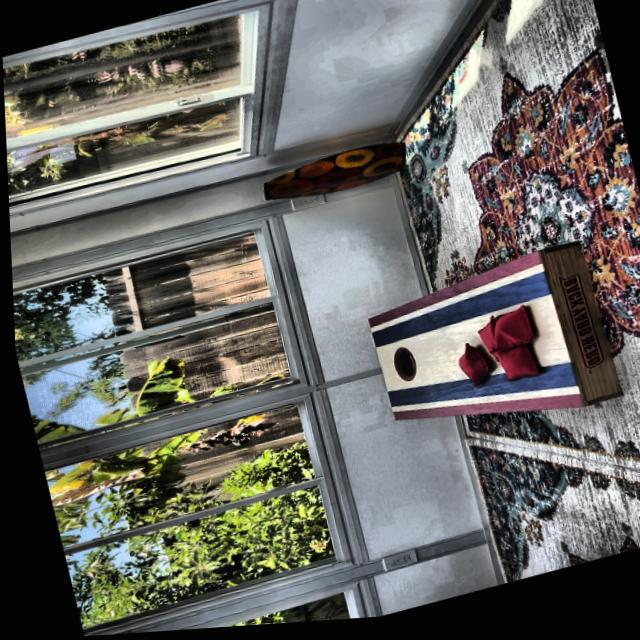board: (362, 269, 571, 437)
hole: (386, 348, 416, 390)
red-bean-bag: (488, 347, 540, 392), (448, 343, 492, 396), (488, 309, 534, 358), (470, 319, 507, 373)
